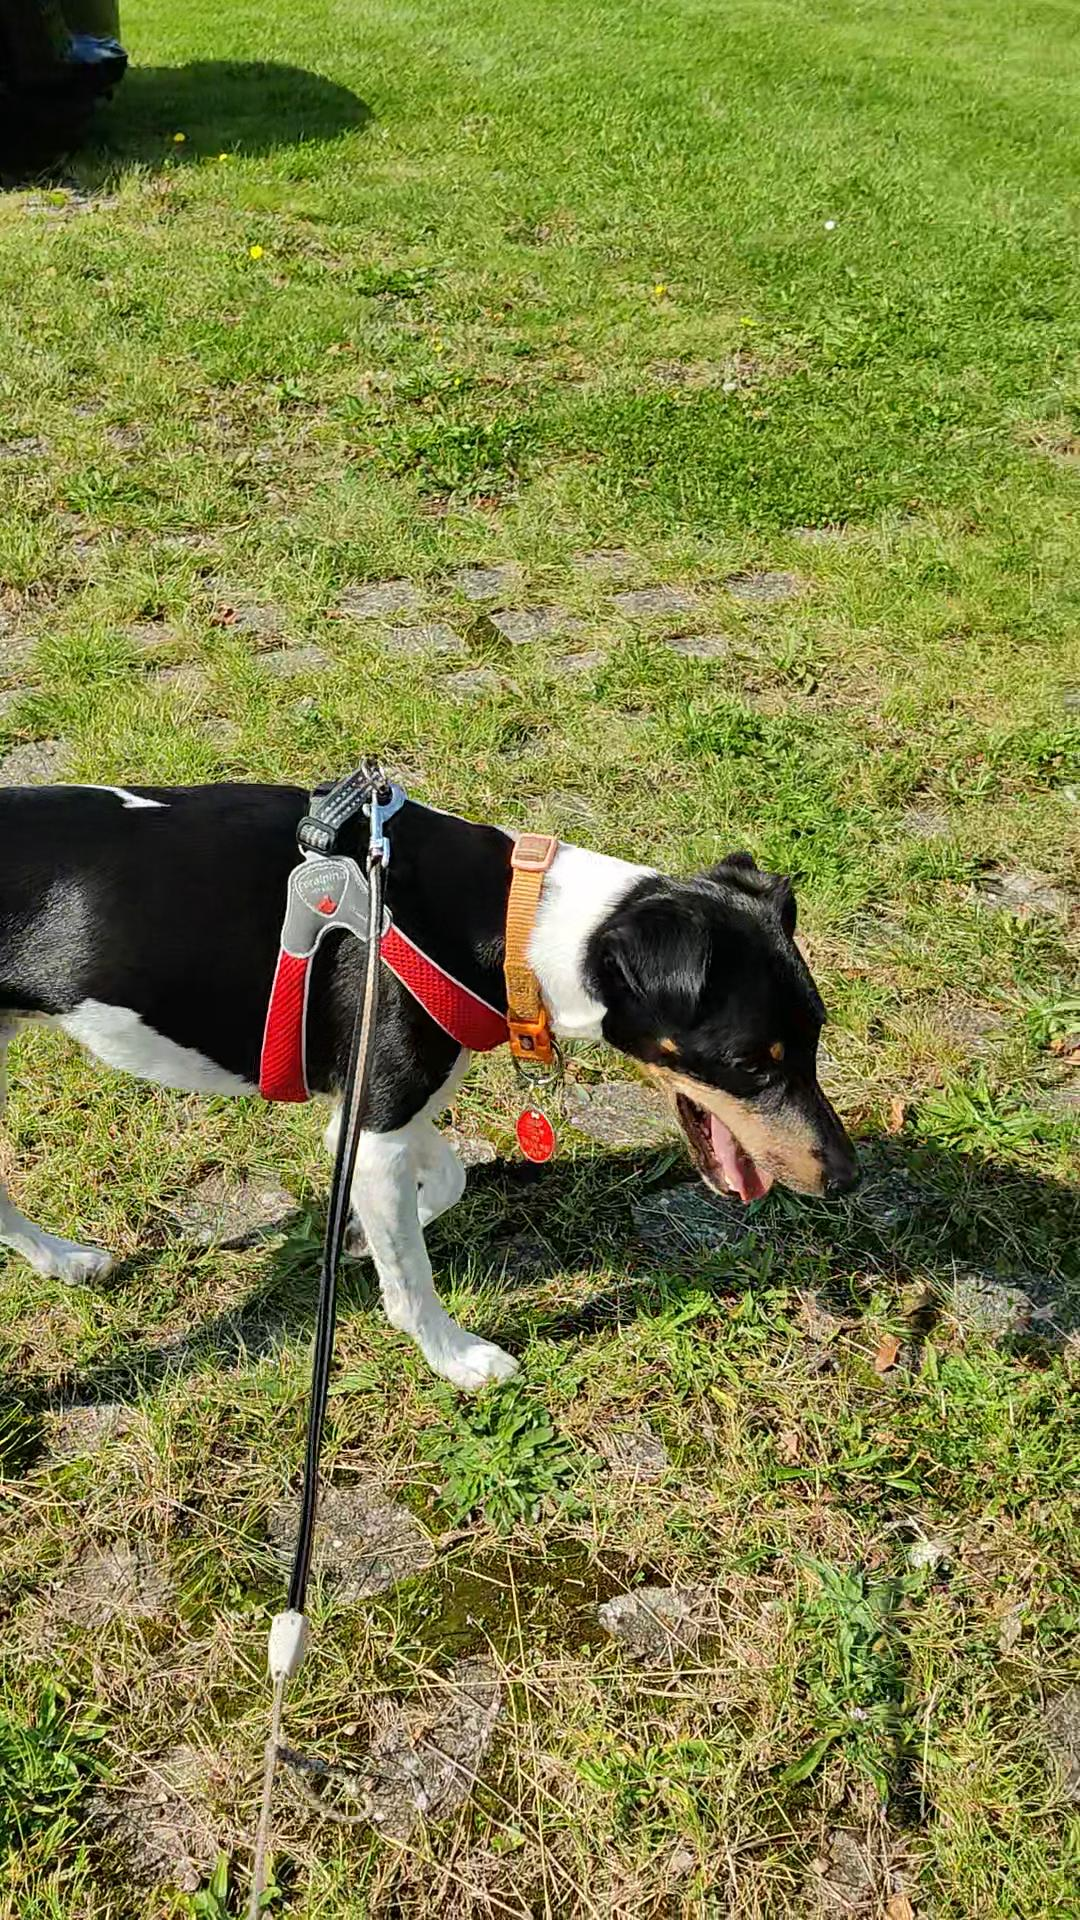Dog: (0, 760, 866, 1400)
